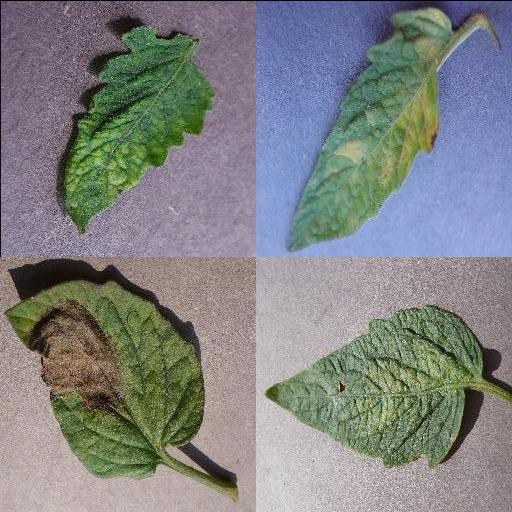Late Blight: (5, 276, 205, 478)
Leaf Mold: (286, 6, 456, 252)
Mosaic Virus: (62, 24, 216, 234)
Spider Mites: (263, 304, 483, 470)
